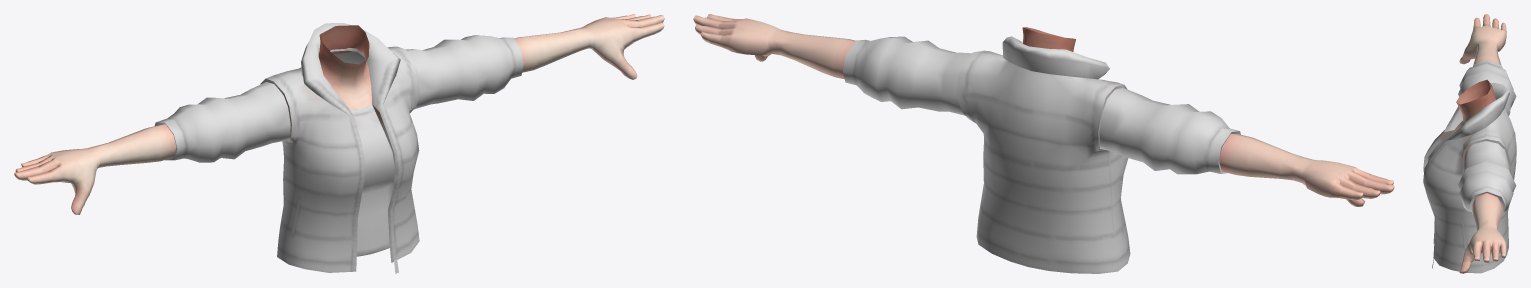
File: tr0810_00_upb02.gltf
3 views of the same model, side by side, from view 1: azimuth 30°, elevation 25°; view 2: azimuth 150°, elevation 25°; view 3: azimuth 270°, elevation 25° (orthographic). The views are drawn at different scales.
Parts seen in each view (by area): view 1: upb02_upperbody_mesh_shape:upperbody02, upb02_upperskin_mesh_shape:upperbody02_skin; view 2: upb02_upperbody_mesh_shape:upperbody02, upb02_upperskin_mesh_shape:upperbody02_skin; view 3: upb02_upperbody_mesh_shape:upperbody02, upb02_upperskin_mesh_shape:upperbody02_skin.
Boxes of the visible parts, box(x1,y1,x2,y2) form: upb02_upperbody_mesh_shape:upperbody02: box(154, 23, 523, 273); upb02_upperskin_mesh_shape:upperbody02_skin: box(14, 14, 664, 214); upb02_upperbody_mesh_shape:upperbody02: box(843, 36, 1240, 273); upb02_upperskin_mesh_shape:upperbody02_skin: box(693, 14, 1394, 206); upb02_upperbody_mesh_shape:upperbody02: box(1423, 60, 1516, 273); upb02_upperskin_mesh_shape:upperbody02_skin: box(1452, 14, 1506, 273).
Size of what is drawn, in the model's own units: 1.63 by 0.5397 by 0.2634.
2 materials, 2 textured.
